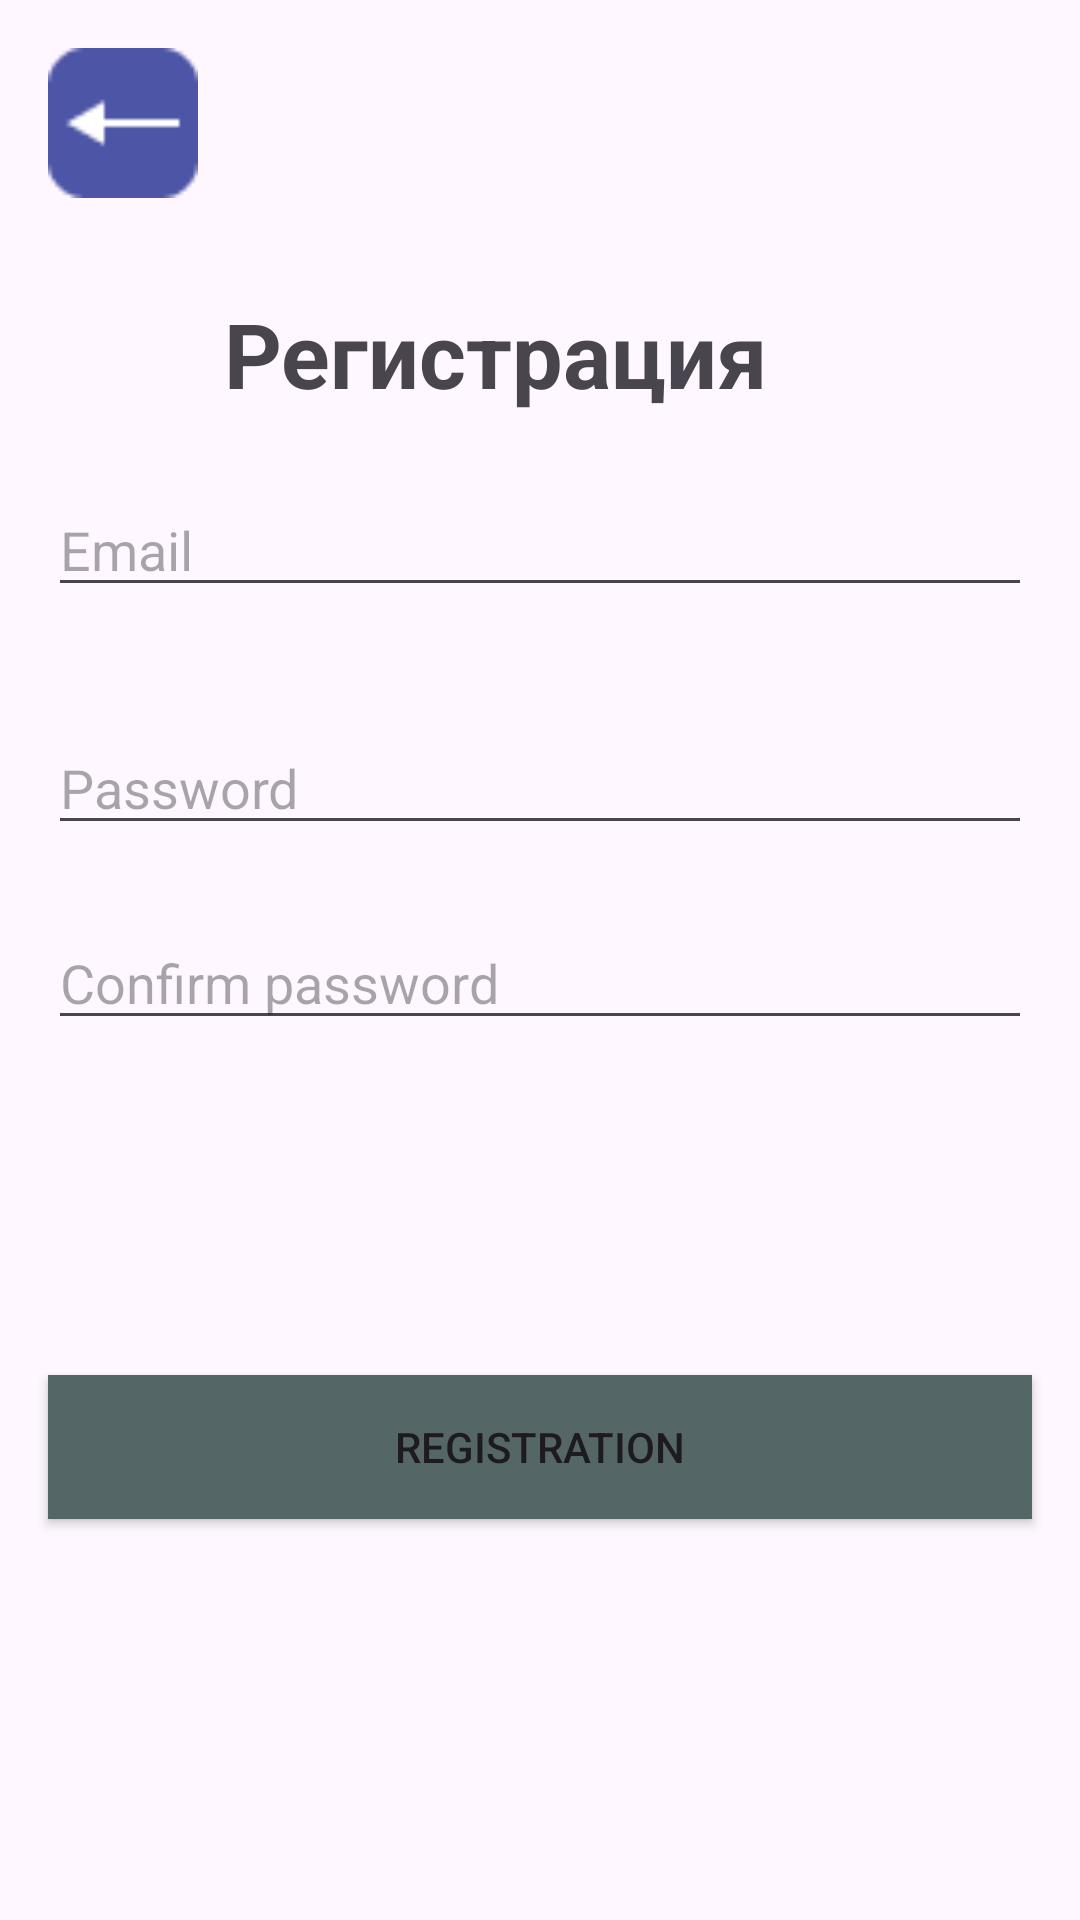

Icon click points for this 1080*1920 phone screenshot, format [x,y]:
back: [123,123]
